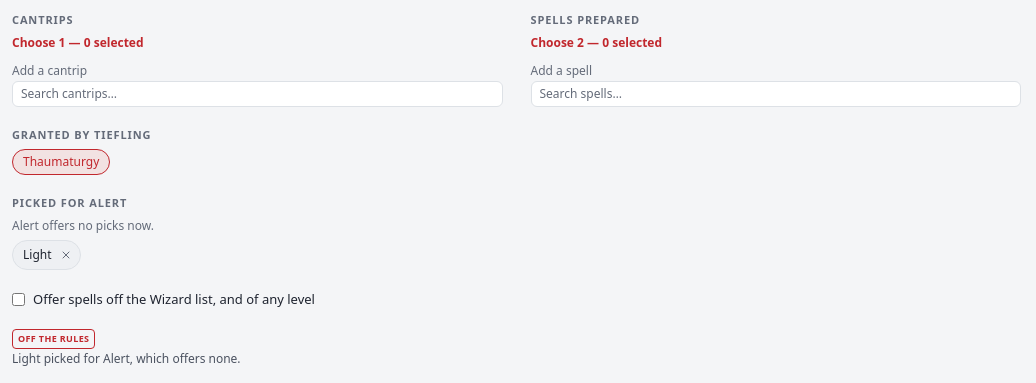
Test: SpellsStep › lists a pick made for a row that offers none now, so its departure can be cleared
The image size is (1036, 383).
Click the button named "Remove Light" at [66, 254], box x1=56 y1=244 x2=76 y2=264
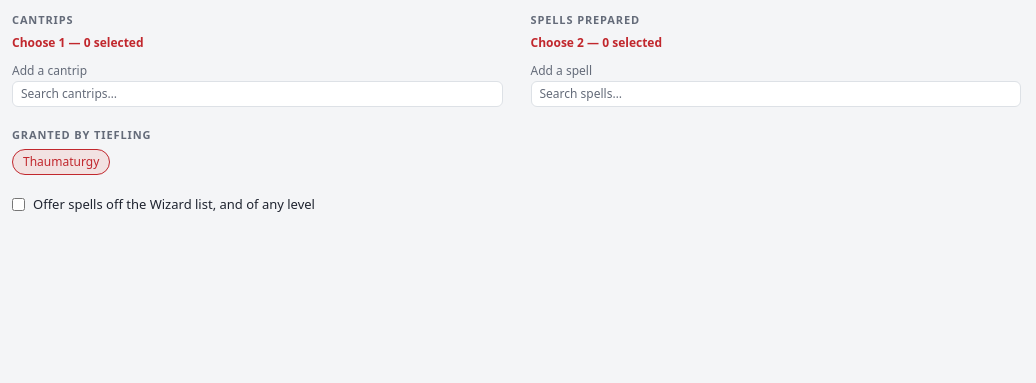
expect the heading "Picked for Alert" is gone: met
